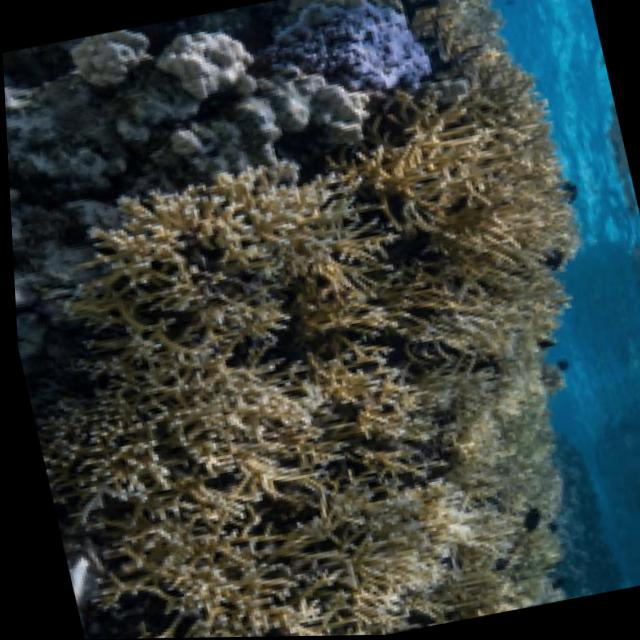Dead Coral: (63, 381, 477, 639), (30, 132, 395, 419)
